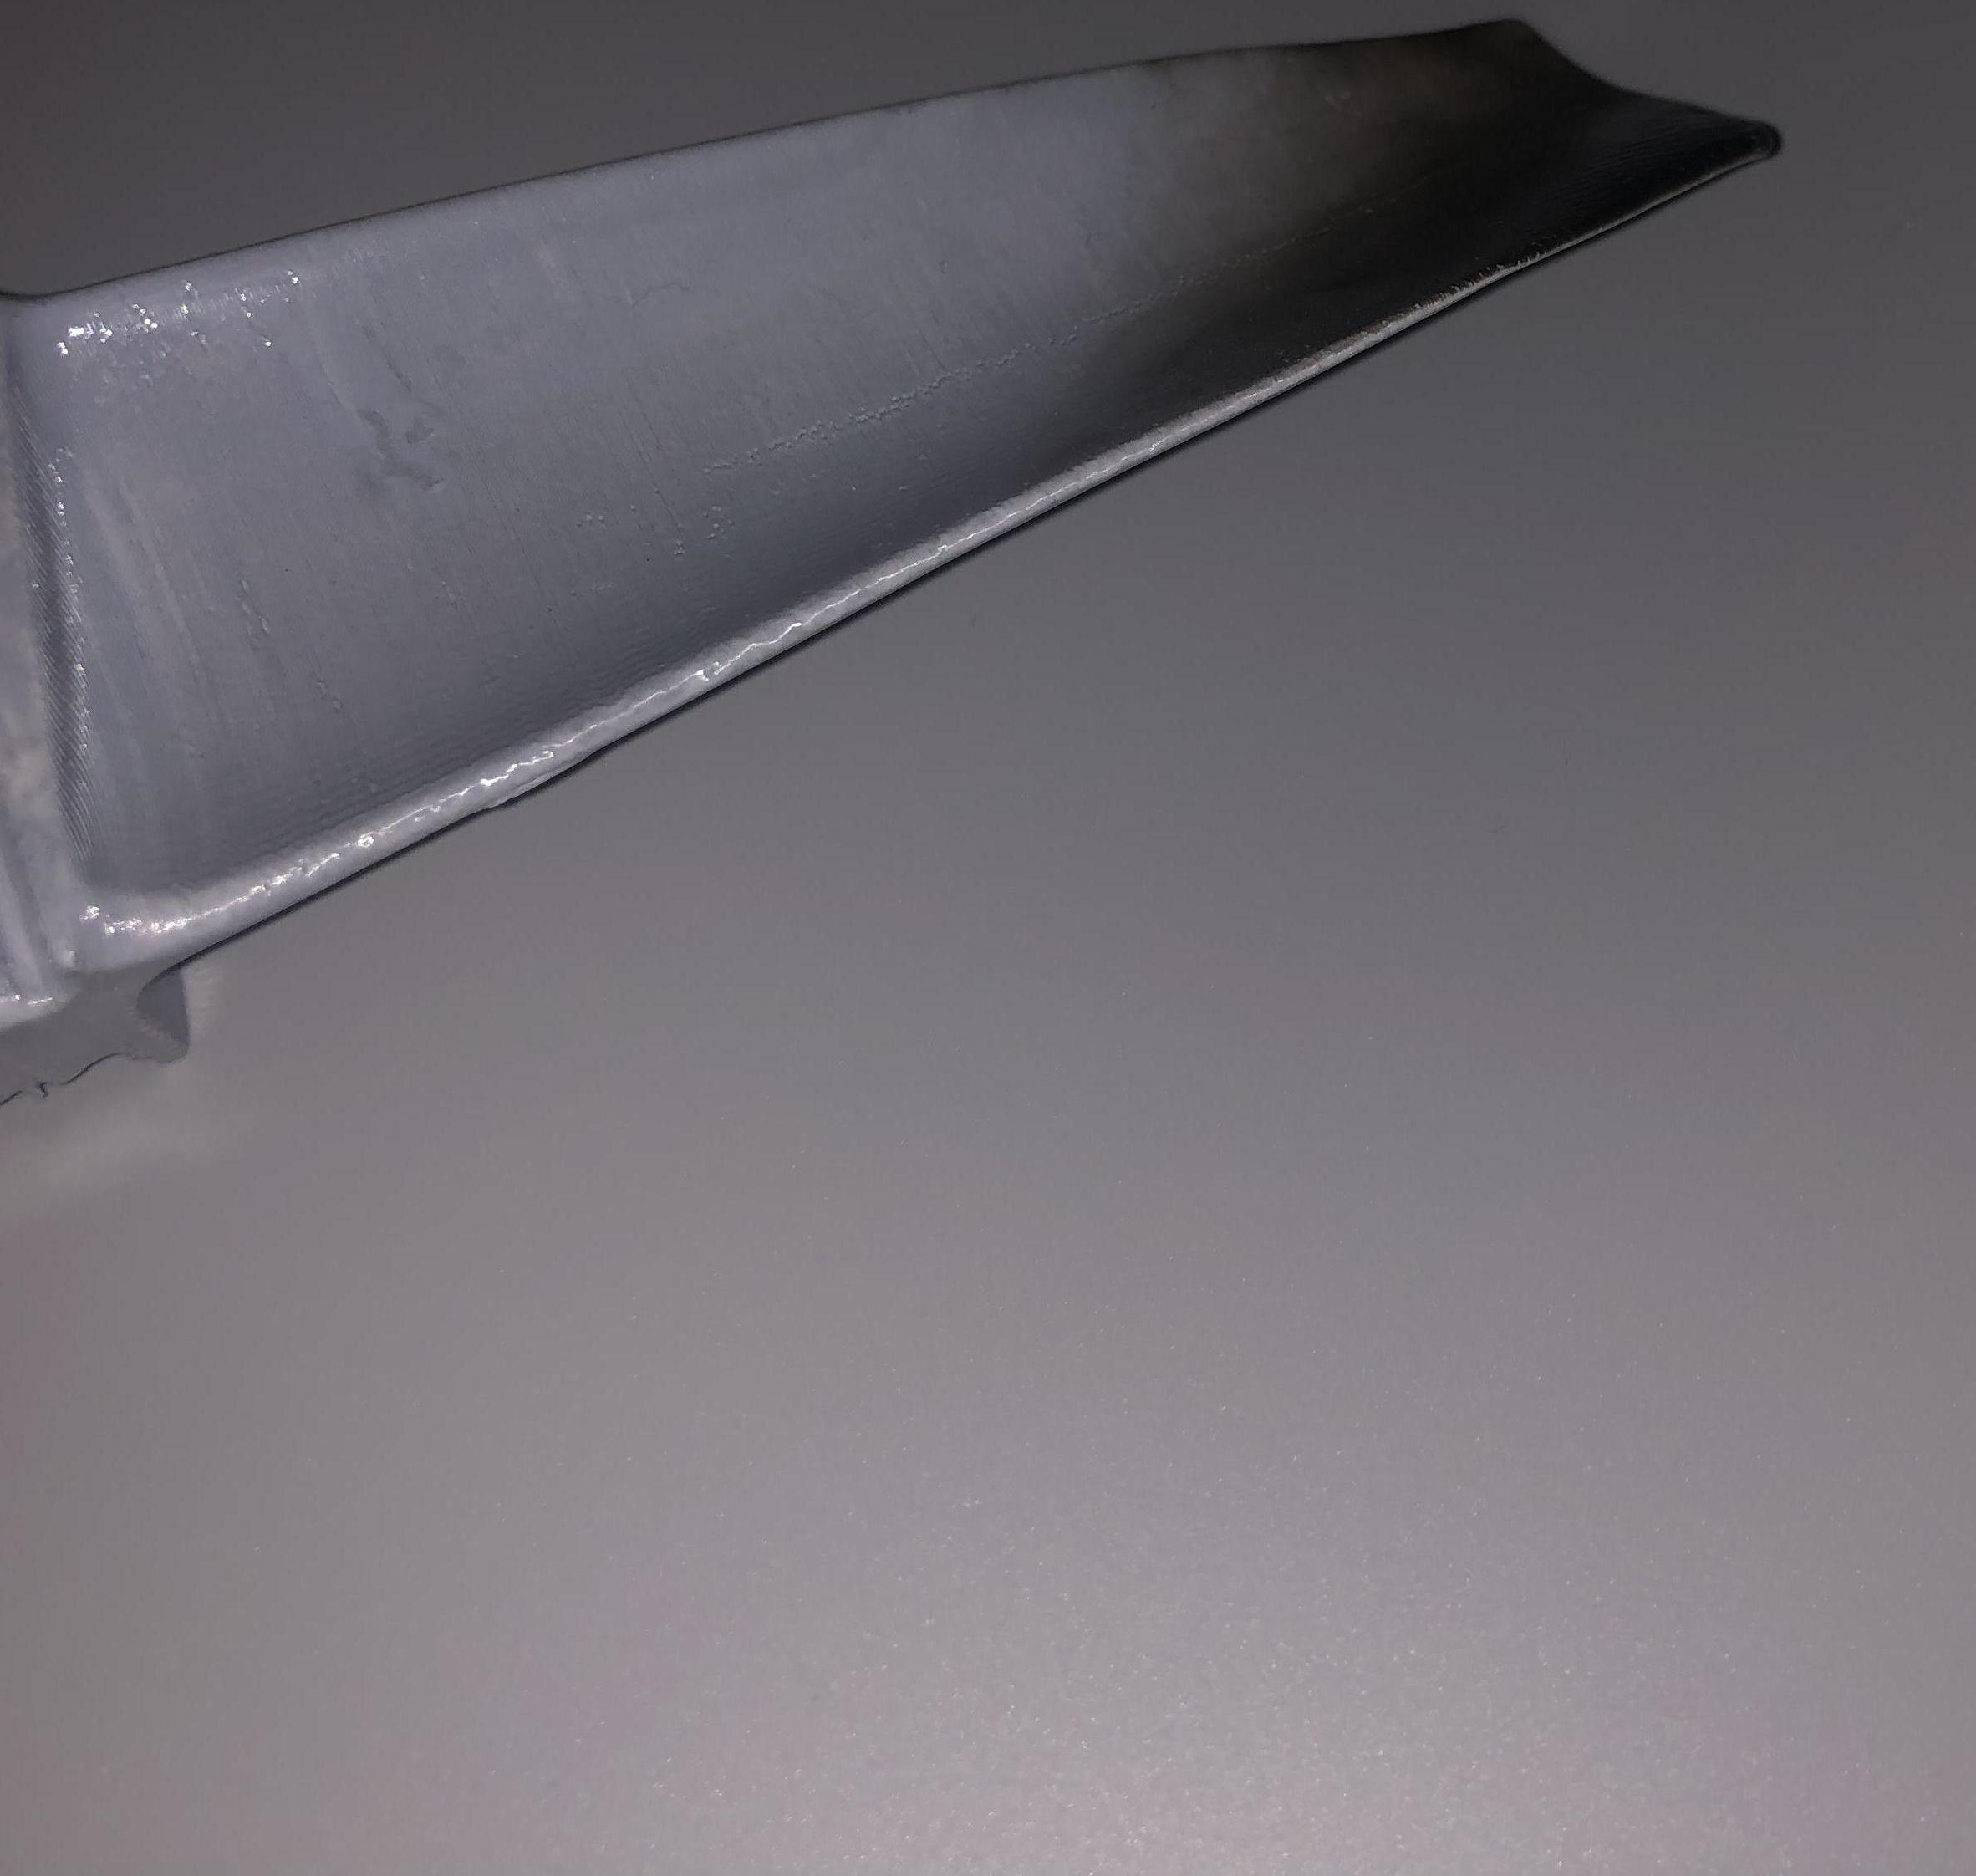ablation: (1322, 67, 1659, 261)
